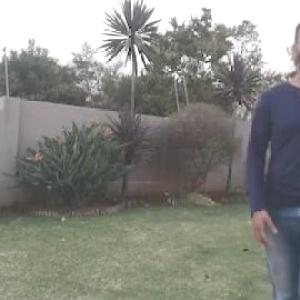follow: (248, 30, 299, 299)
